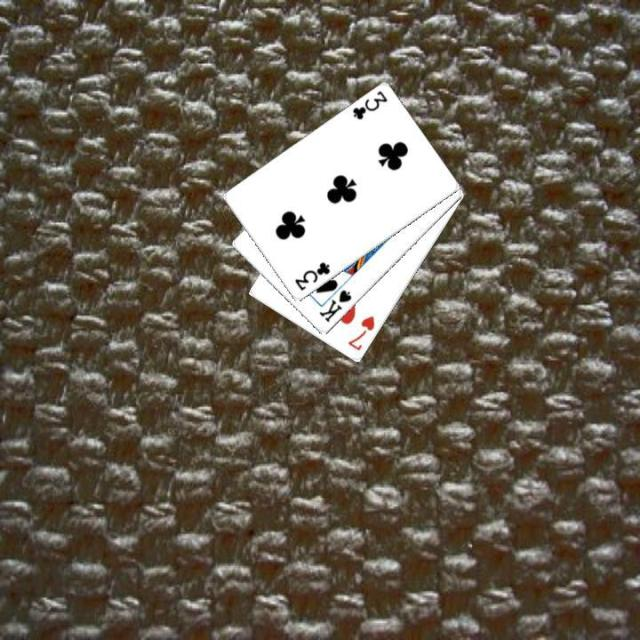3C: (290, 258, 332, 293), (348, 87, 389, 122)
7H: (344, 312, 377, 353)
KS: (316, 286, 354, 324)
